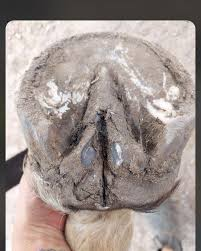horsesole: (15, 31, 195, 143)
